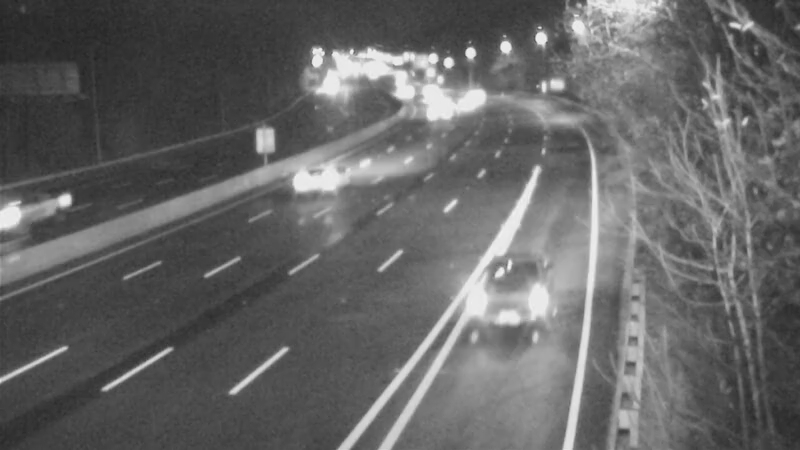vehicle: (278, 144, 358, 224), (462, 254, 542, 334), (1, 172, 76, 252), (381, 68, 431, 118), (449, 70, 499, 120), (435, 80, 485, 130), (412, 83, 462, 133)
